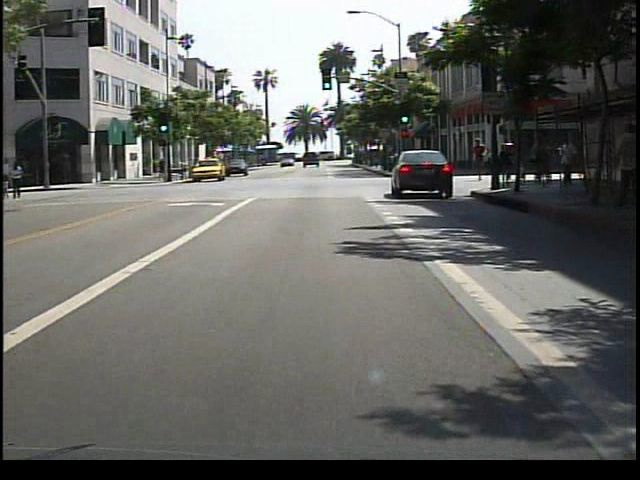person: (469, 134, 493, 186), (13, 160, 34, 201)
